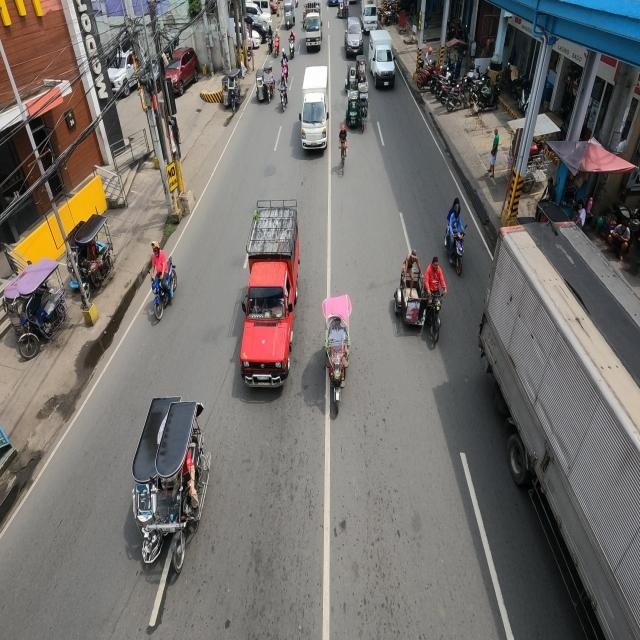Truck: (304, 0, 324, 52)
Van: (237, 198, 299, 390), (300, 62, 328, 154), (369, 30, 397, 90)
